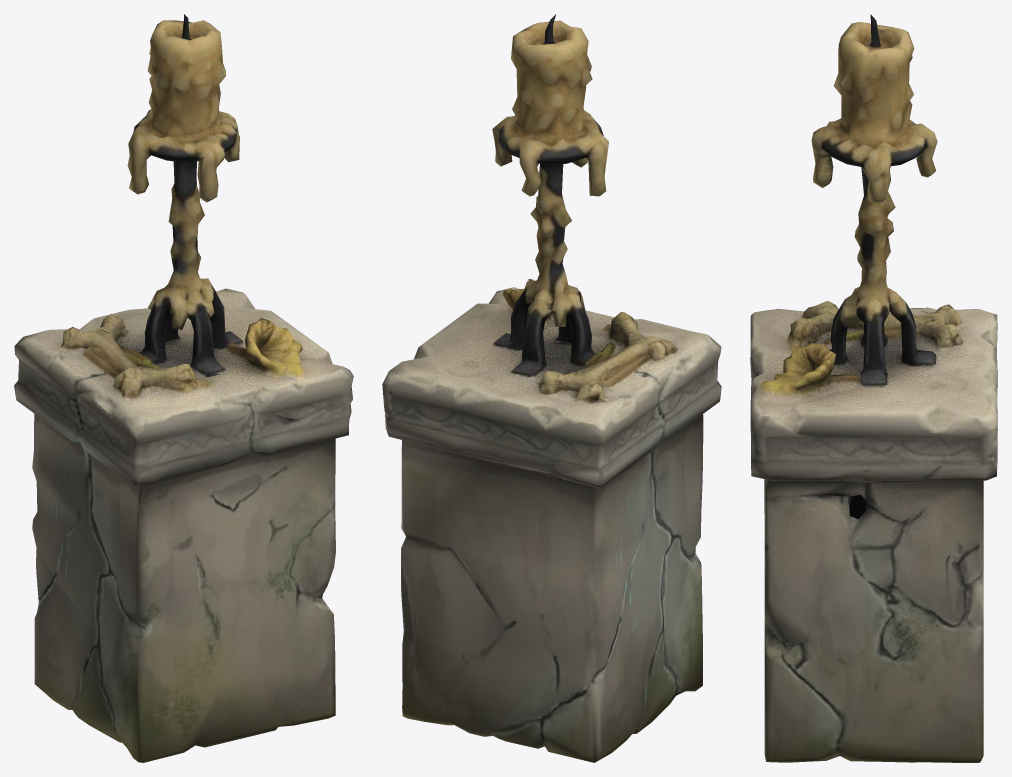
File: kit_rest.glb
3 views of the same model, side by side, from view 1: azimuth 30°, elevation 25°; view 2: azimuth 150°, elevation 25°; view 3: azimuth 270°, elevation 25° (orthographic).
Visible parts, largest first — view 1: kit_rest; view 2: kit_rest; view 3: kit_rest.
Boxes of the visible parts, x1=… form: kit_rest: x1=14, y1=14, x2=353, y2=762; kit_rest: x1=382, y1=14, x2=721, y2=762; kit_rest: x1=750, y1=14, x2=997, y2=762.
Bounding box in the file's own units: 0.5981 × 1.77 × 0.5672.
Materials: 1 (1 with a texture image).
